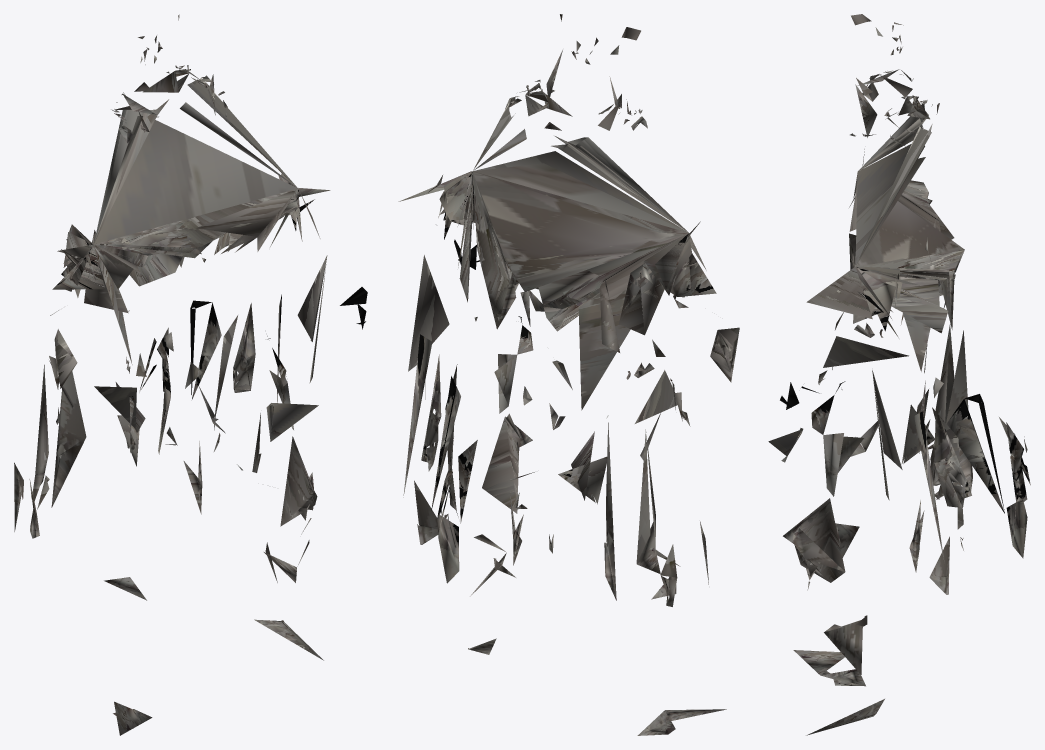
File: hooded_male_far.glb
3 renders of one model, left to right at view 1: azimuth 30°, elevation 25°; view 2: azimuth 150°, elevation 25°; view 3: azimuth 270°, elevation 25°, orthographic. The views are drawn at different scales.
Visible parts, largest first — view 1: hooded_male_far; view 2: hooded_male_far; view 3: hooded_male_far.
Boxes of the visible parts, x1,y1,x2,y2 form: hooded_male_far: [14, 14, 367, 735]; hooded_male_far: [398, 14, 739, 735]; hooded_male_far: [768, 14, 1030, 735].
Size of the model in its own units: 0.8177 by 1.72 by 0.5939.
1 material, 1 textured.
